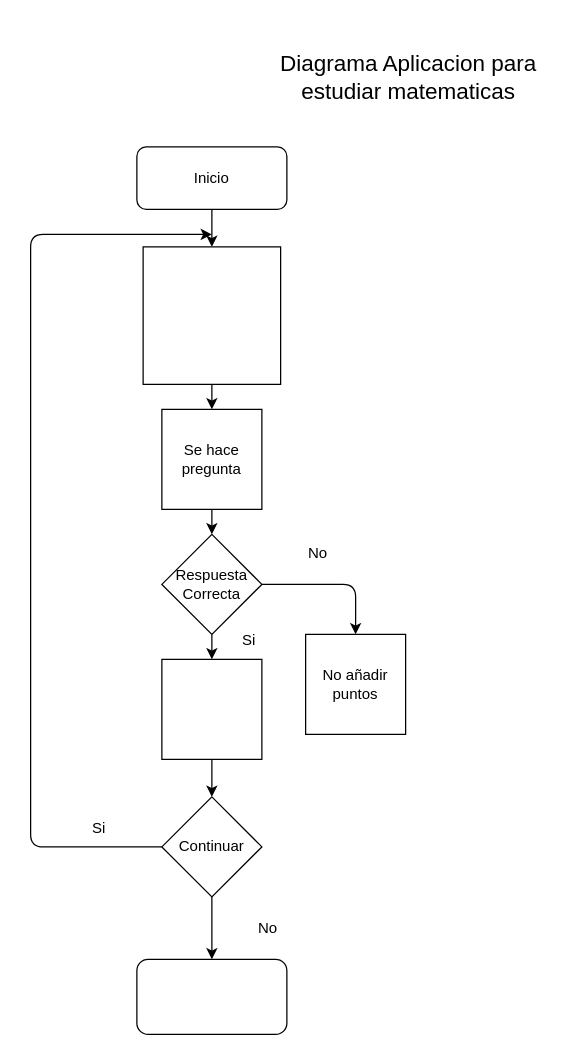
This 578x1056 diagram has some shape labels left out. The centre of each missing label's shape, as x and y in pixels:
Añadir puntos: pixel 211 708
Fin: pixel 211 996
Verificar la cantidad de puntos y elegir un "nivel de pregunta segun estos: pixel 211 315
